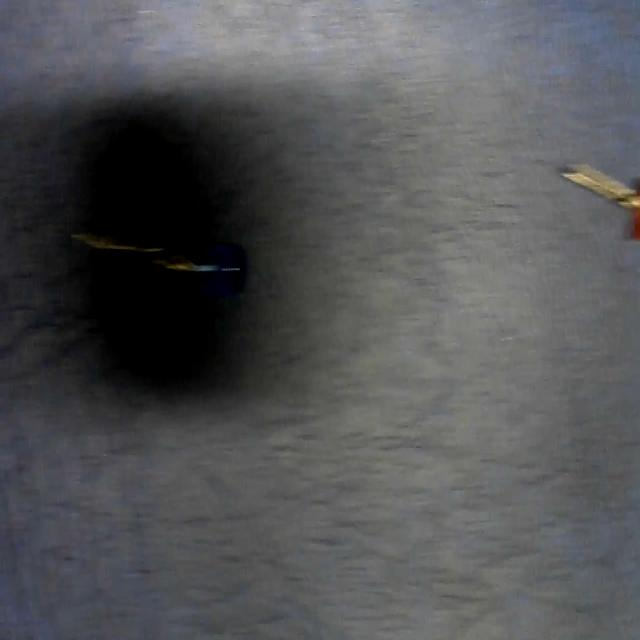LED: (58, 216, 245, 299)
